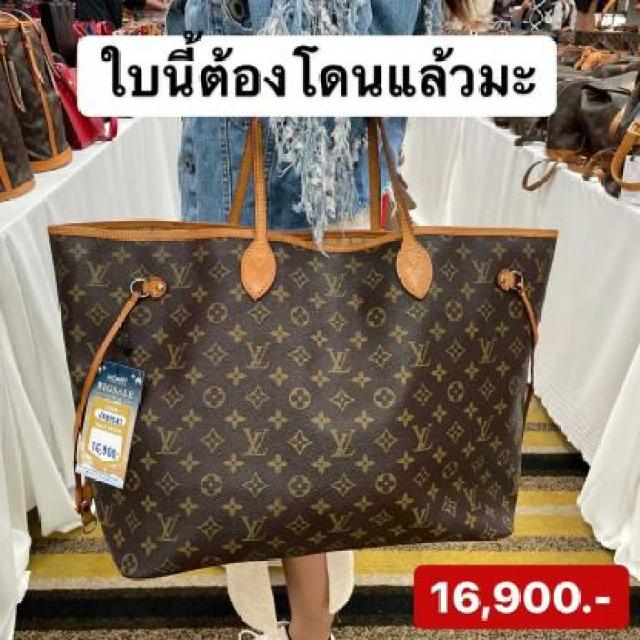Bag: (35, 52, 590, 596)
